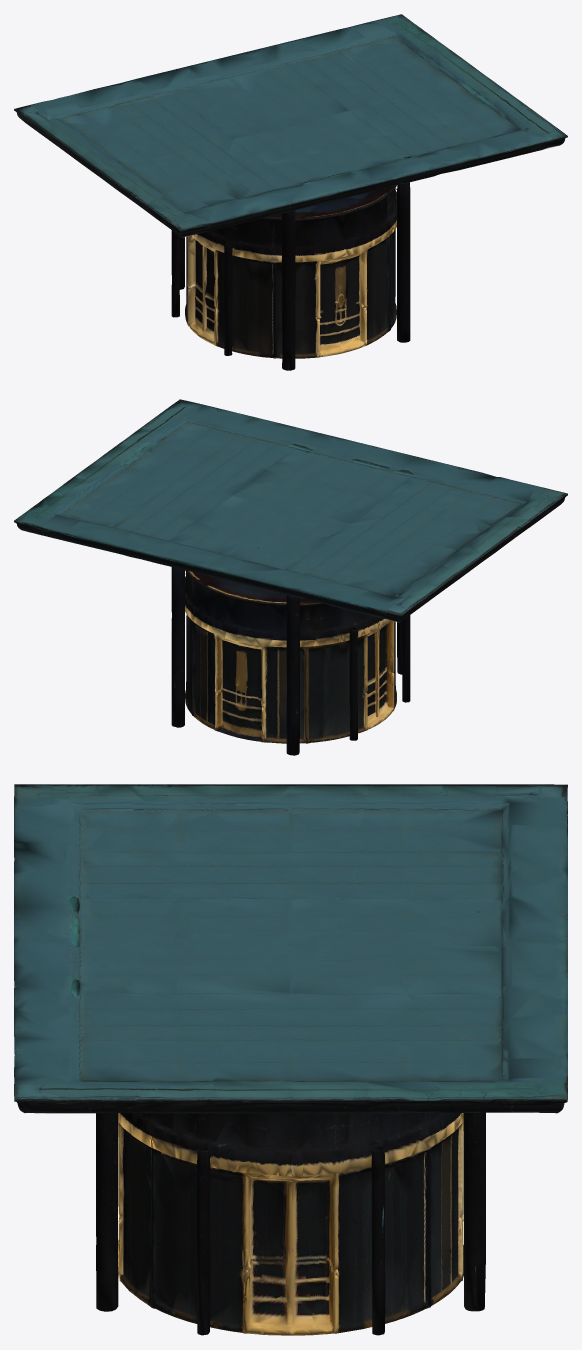
The model's file is office_entrance.glb.
The picture shows the model from 3 angles, top to bottom: view 1: azimuth 30°, elevation 25°; view 2: azimuth 150°, elevation 25°; view 3: azimuth 270°, elevation 25°; orthographic projection. The views are drawn at different scales.
Bounding box in the file's own units: 1.9 × 0.9461 × 1.41.
Materials: 1 (1 with a texture image).
